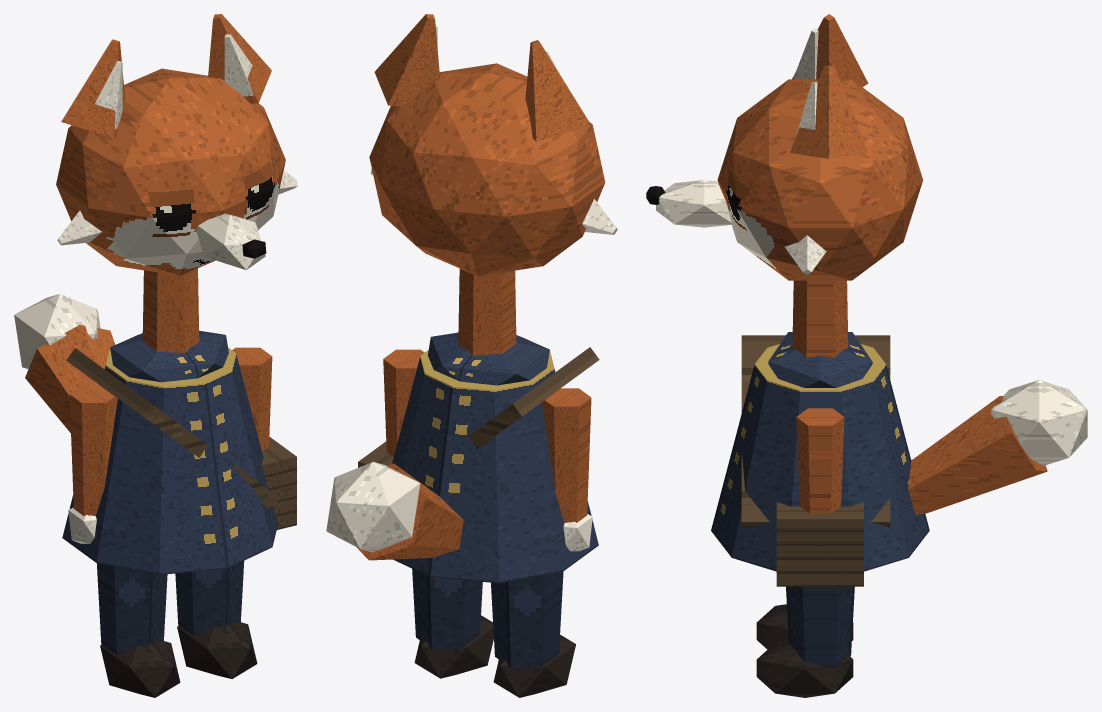
File: fen.glb
3 renders of one model, left to right at view 1: azimuth 30°, elevation 25°; view 2: azimuth 150°, elevation 25°; view 3: azimuth 270°, elevation 25°, orthographic. The views are drawn at different scales.
Visible parts, largest first — view 1: torso, head, leg-left, tail, leg-right, arm-left, arm-right; view 2: head, torso, tail, leg-left, leg-right, arm-left, arm-right; view 3: torso, head, tail, leg-right, arm-right, leg-left.
Boxes of the visible parts, bbox=[...] form: torso: bbox=[62, 268, 296, 574]; head: bbox=[56, 14, 297, 275]; leg-left: bbox=[97, 563, 180, 697]; tail: bbox=[14, 294, 115, 432]; leg-right: bbox=[175, 561, 257, 678]; arm-left: bbox=[68, 385, 117, 543]; arm-right: bbox=[232, 347, 272, 451]; head: bbox=[369, 14, 617, 276]; torso: bbox=[358, 268, 599, 583]; tail: bbox=[326, 461, 463, 560]; leg-left: bbox=[491, 571, 575, 697]; leg-right: bbox=[412, 568, 493, 678]; arm-left: bbox=[542, 388, 592, 551]; arm-right: bbox=[383, 349, 424, 456]; torso: bbox=[711, 280, 929, 586]; head: bbox=[646, 14, 922, 280]; tail: bbox=[908, 380, 1087, 514]; leg-right: bbox=[756, 586, 854, 697]; arm-right: bbox=[796, 408, 844, 513]; leg-left: bbox=[756, 604, 853, 649].
Size of the model in its own units: 0.62 by 1.61 by 1.01.
1 material, 1 textured.
